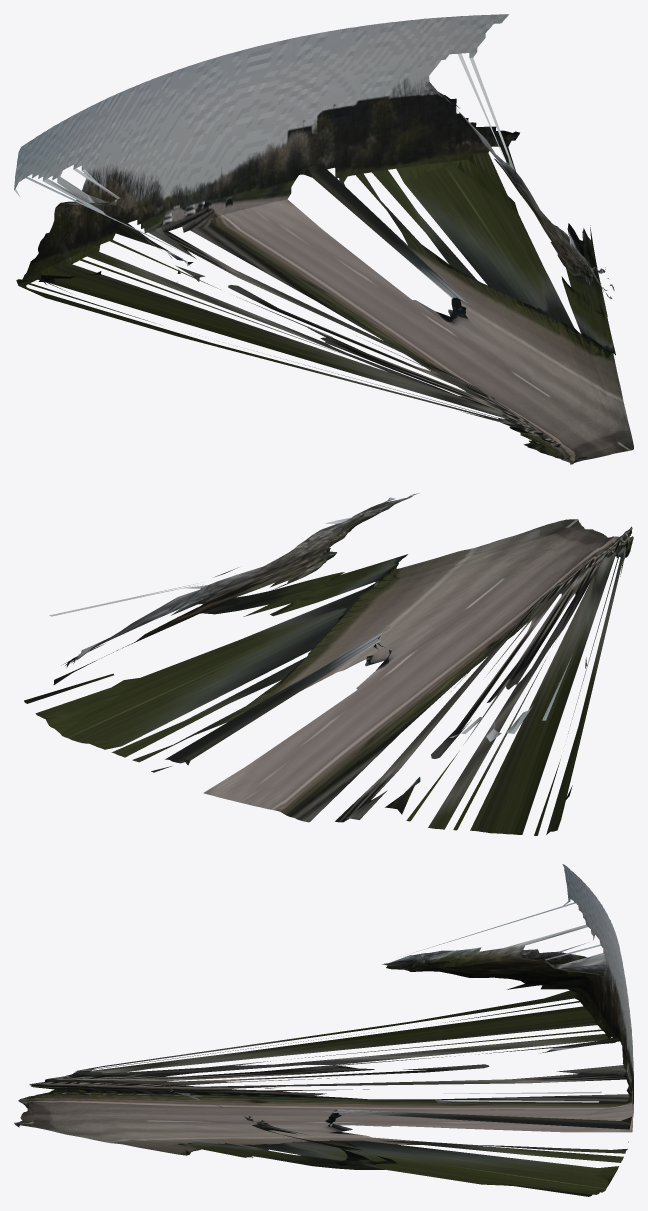
3 views of the same model, one above another, from view 1: azimuth 30°, elevation 25°; view 2: azimuth 150°, elevation 25°; view 3: azimuth 270°, elevation 25° (orthographic). The views are drawn at different scales.
Visible parts, largest first — view 1: defaultobject; view 2: defaultobject; view 3: defaultobject.
Part boxes in pixels (left/top/right/bottom): defaultobject: left=14, top=14, right=633, bottom=464; defaultobject: left=24, top=493, right=633, bottom=835; defaultobject: left=14, top=864, right=633, bottom=1196.
Bounding box in the file's own units: 38.08 × 12.08 × 44.93.
1 material, 1 textured.
